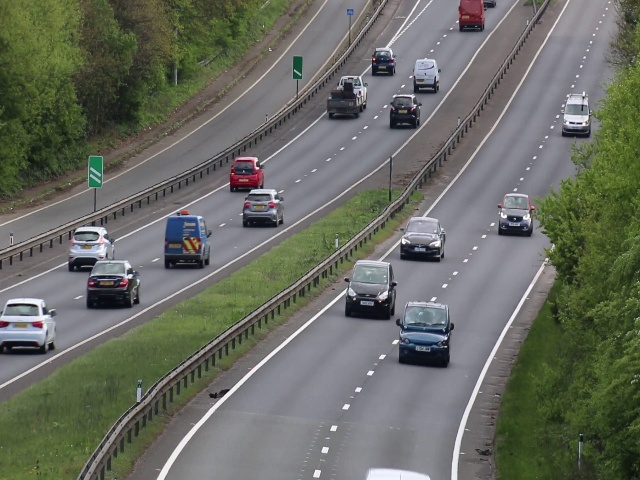car: (396, 302, 454, 365), (1, 297, 60, 355), (344, 258, 395, 318), (88, 258, 142, 314), (162, 214, 213, 269), (400, 216, 448, 264), (69, 228, 119, 270), (243, 188, 286, 229), (496, 190, 534, 236), (329, 77, 368, 117), (560, 91, 593, 137), (227, 156, 264, 191), (387, 94, 420, 129), (414, 57, 440, 92), (371, 46, 396, 80), (458, 1, 485, 29)
